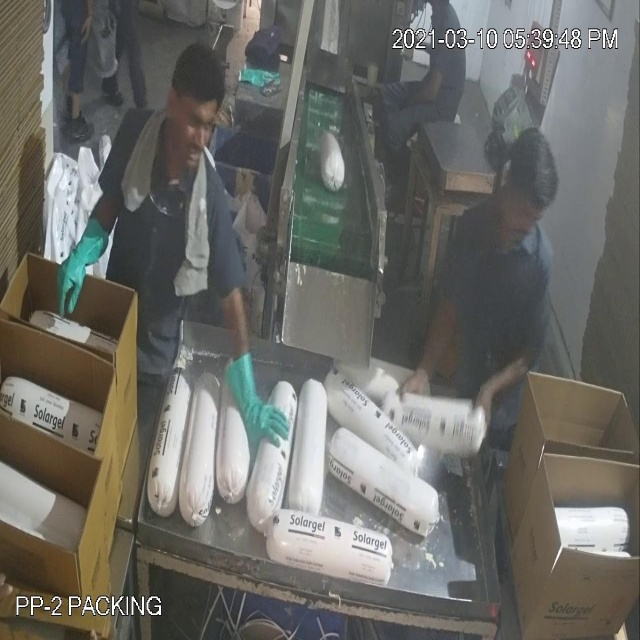Guantes: (215, 342, 298, 465), (46, 209, 114, 326)
Sin_guantes: (386, 284, 461, 411), (471, 340, 543, 435)
